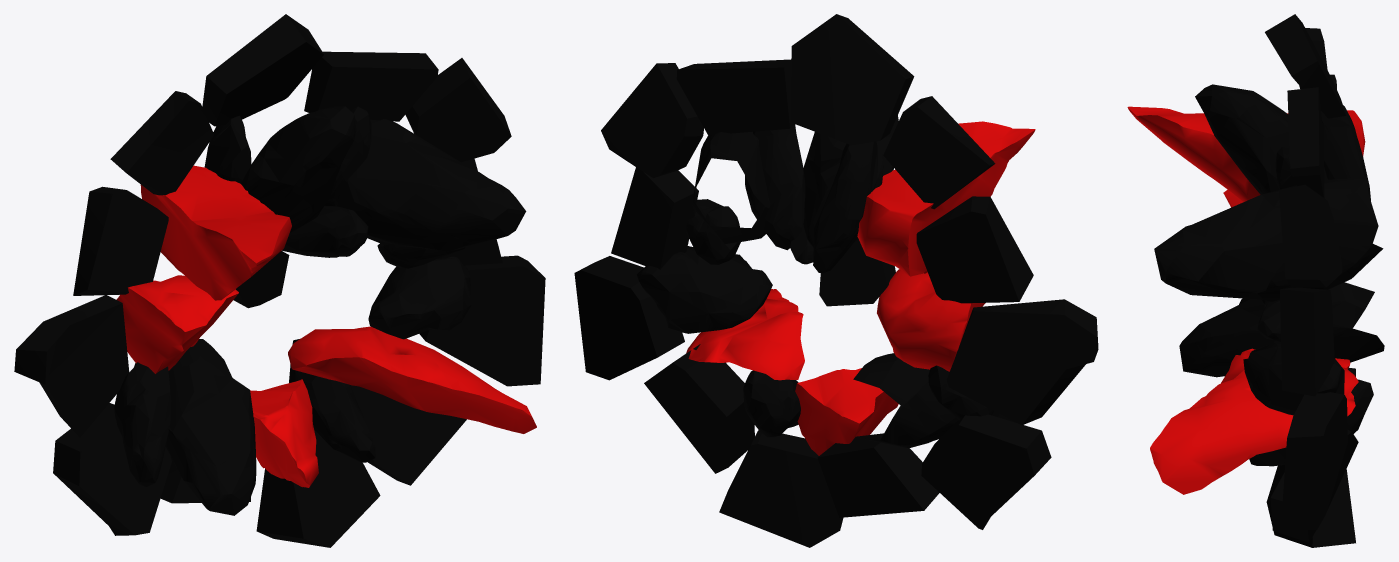
File: SM_d_e_P0001_V00_C00_SplSsr_c080_GroundRock_01.glb
3 views of the same model, side by side, from view 1: azimuth 30°, elevation 25°; view 2: azimuth 150°, elevation 25°; view 3: azimuth 270°, elevation 25° (orthographic). The views are drawn at different scales.
Parts seen in each view (by area): view 1: SM_d_e_P0001_V00_C00_SplSsr_c080_GroundRock_01; view 2: SM_d_e_P0001_V00_C00_SplSsr_c080_GroundRock_01; view 3: SM_d_e_P0001_V00_C00_SplSsr_c080_GroundRock_01.
Part boxes in pixels (box(x1,y1,x2,y2)): SM_d_e_P0001_V00_C00_SplSsr_c080_GroundRock_01: box(14, 14, 545, 547); SM_d_e_P0001_V00_C00_SplSsr_c080_GroundRock_01: box(574, 14, 1098, 547); SM_d_e_P0001_V00_C00_SplSsr_c080_GroundRock_01: box(1127, 14, 1384, 547).
Bounding box in the file's own units: 114 × 112 × 50.9.
